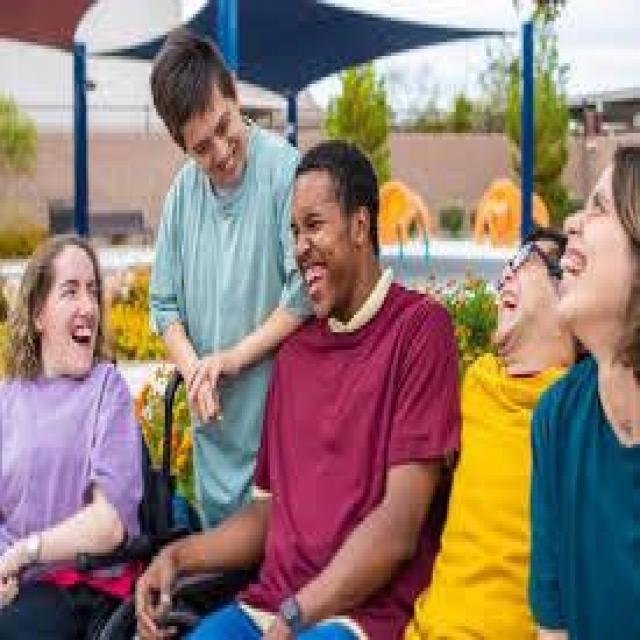person: (121, 116, 442, 636), (142, 28, 326, 563), (428, 178, 589, 636), (0, 217, 161, 598), (526, 150, 638, 598)
